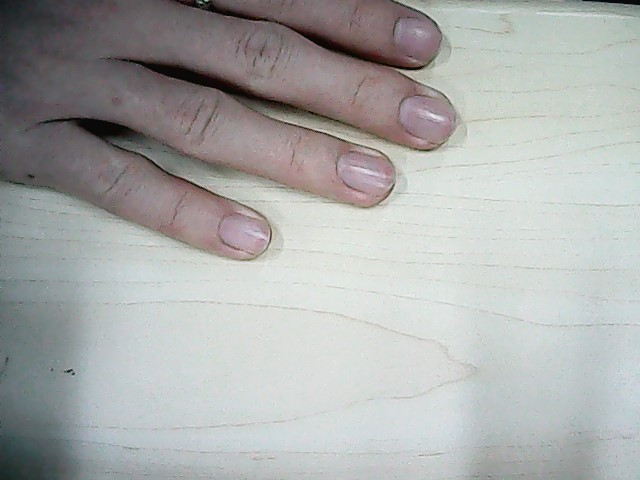nail: (397, 88, 456, 144), (335, 150, 397, 198), (217, 209, 270, 256), (392, 15, 444, 62)
